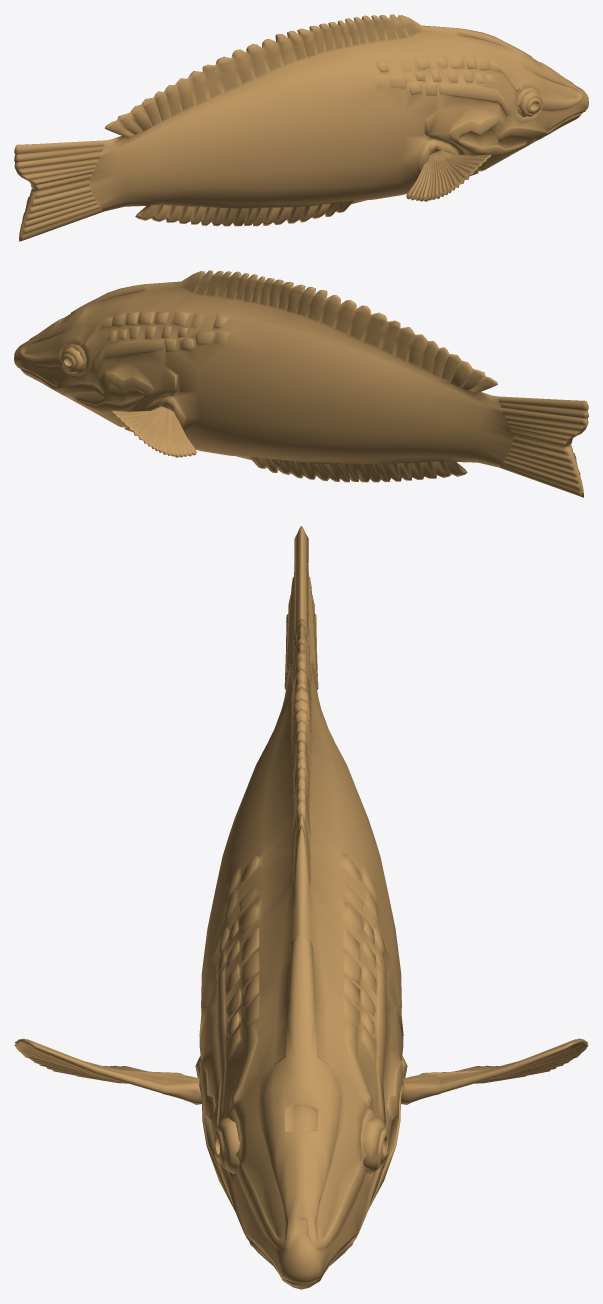
File: Fish2.fbx
3 views of the same model, one above another, from view 1: azimuth 30°, elevation 25°; view 2: azimuth 150°, elevation 25°; view 3: azimuth 270°, elevation 25° (orthographic). The views are drawn at different scales.
Parts seen in each view (by area): view 1: main_polySurface633_group1; view 2: main_polySurface633_group1; view 3: main_polySurface633_group1.
Boxes of the visible parts, x1,y1,x2,y2 form: main_polySurface633_group1: [14, 14, 588, 241]; main_polySurface633_group1: [14, 270, 588, 497]; main_polySurface633_group1: [14, 526, 588, 1289].
Size of the model in its own units: 8.25 by 2.69 by 3.58.
